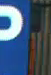Parking: (0, 0, 35, 74)
